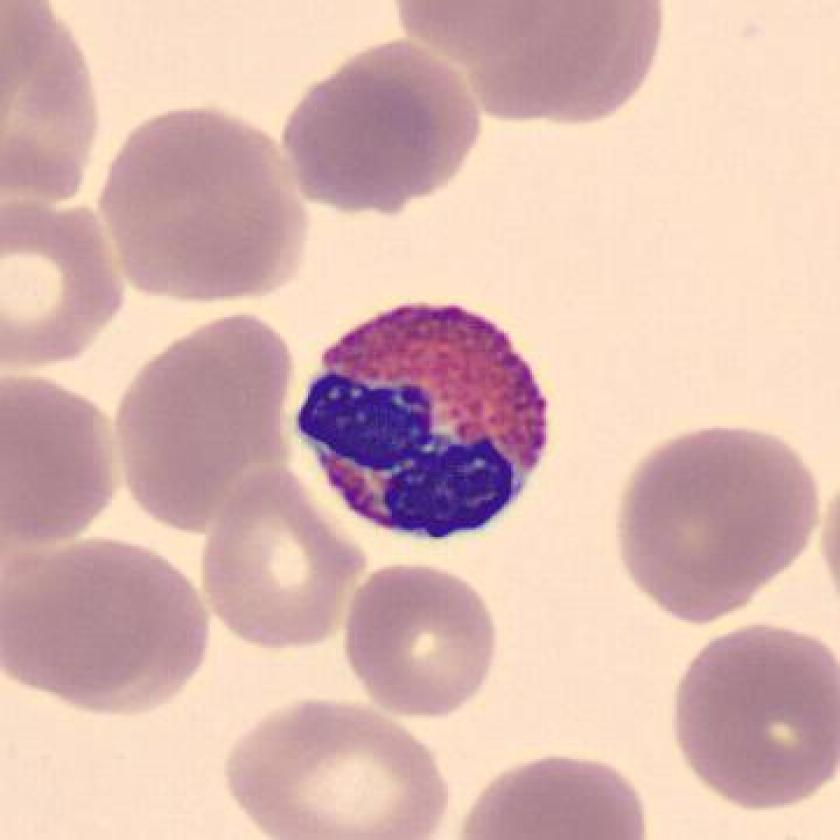eosinophil: (288, 276, 566, 552)
